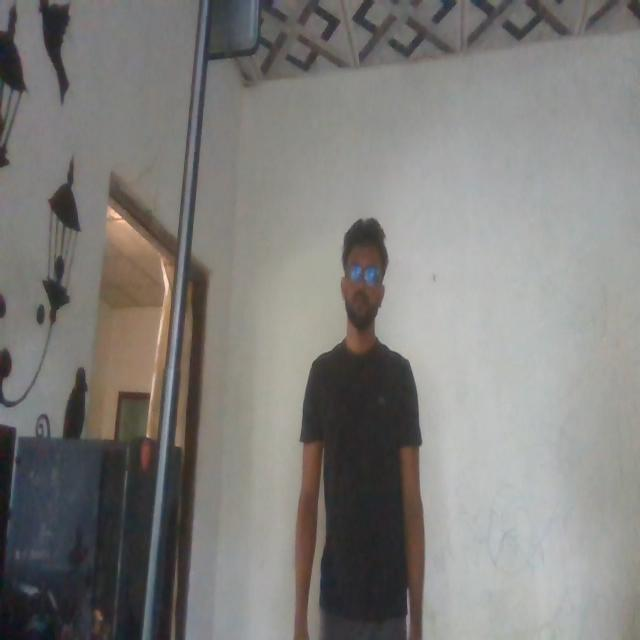Person: (297, 217, 424, 640)
